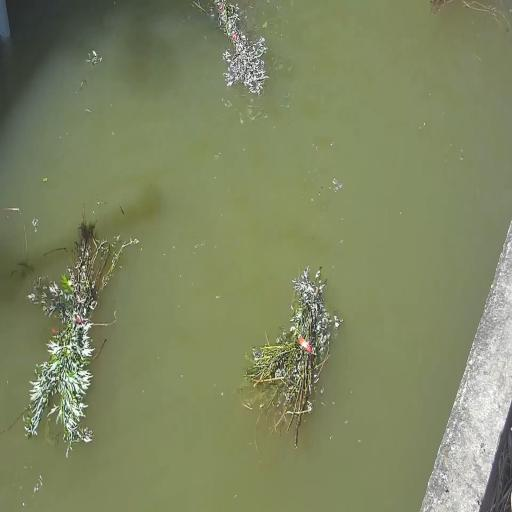twig: (14, 205, 138, 453), (238, 262, 339, 452), (191, 0, 272, 96), (430, 0, 510, 33)
